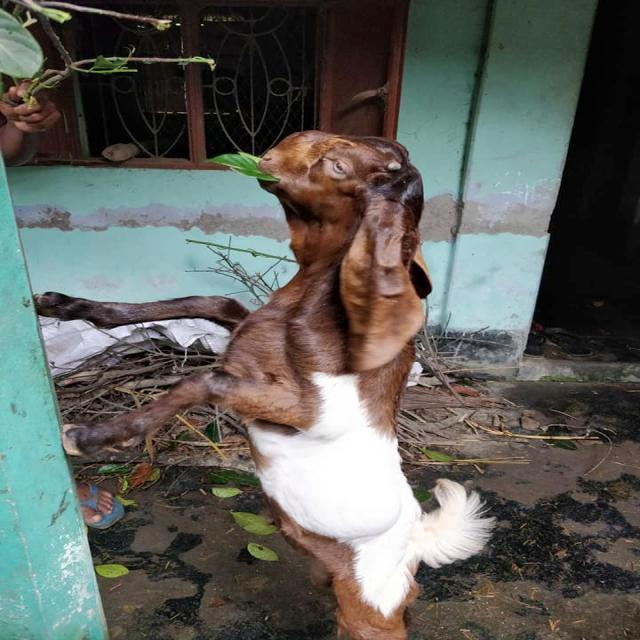Goat: (32, 128, 497, 639)
